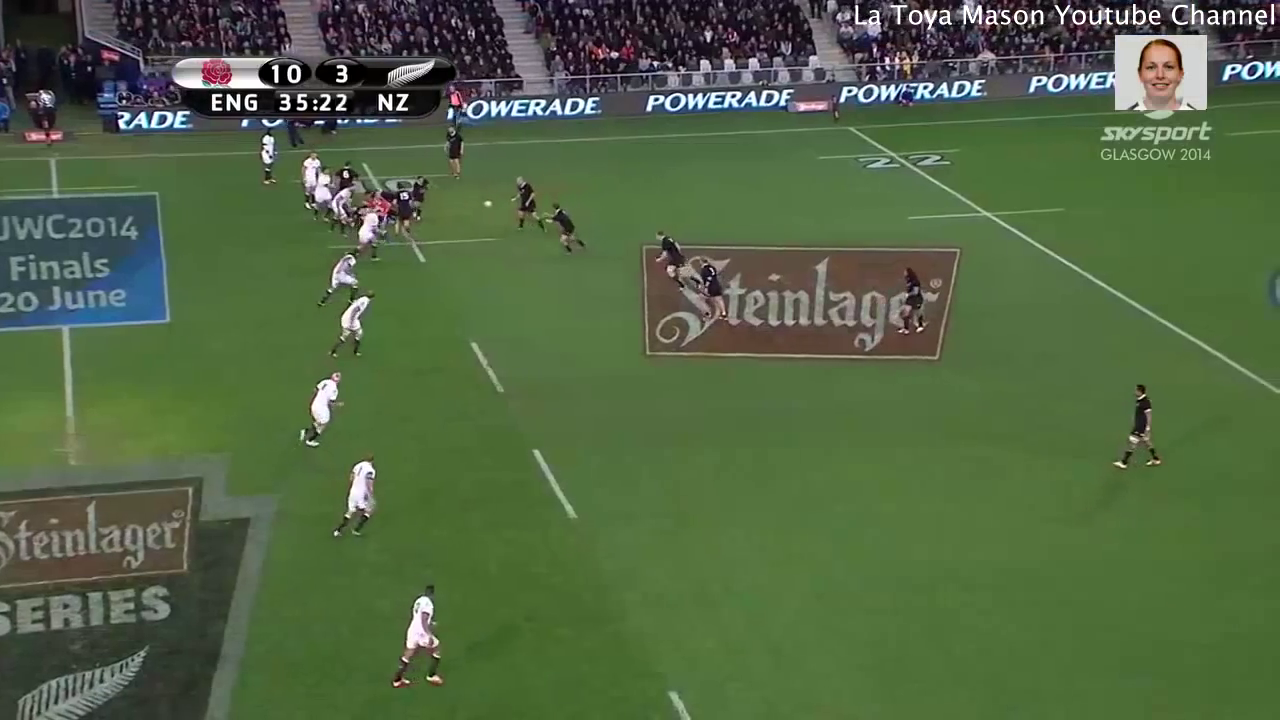10_metre: (320, 218, 505, 266)
ball: (482, 195, 494, 213)
player: (385, 580, 455, 701), (1099, 376, 1172, 485), (325, 449, 385, 543), (318, 285, 379, 365), (296, 368, 352, 452), (681, 253, 734, 332), (310, 245, 364, 311), (891, 259, 933, 343), (648, 227, 692, 296), (538, 198, 587, 257), (504, 174, 546, 237), (346, 205, 383, 270), (251, 128, 284, 191), (437, 123, 467, 188), (389, 180, 420, 240), (309, 163, 335, 229), (405, 171, 435, 228), (329, 182, 357, 242), (297, 145, 316, 213), (332, 156, 361, 195), (366, 192, 391, 224)
